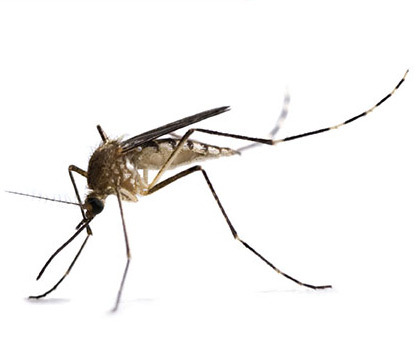mosquito: (5, 68, 413, 314)
